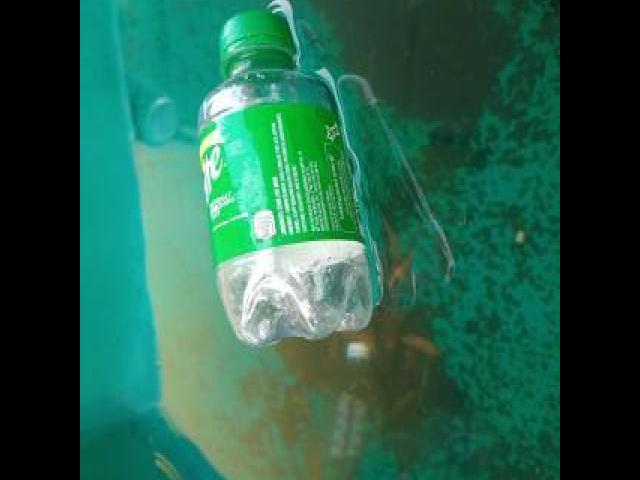Bottle: (192, 0, 379, 351)
